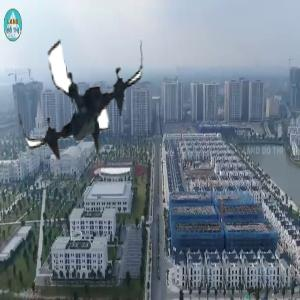drone: (10, 21, 155, 166)
